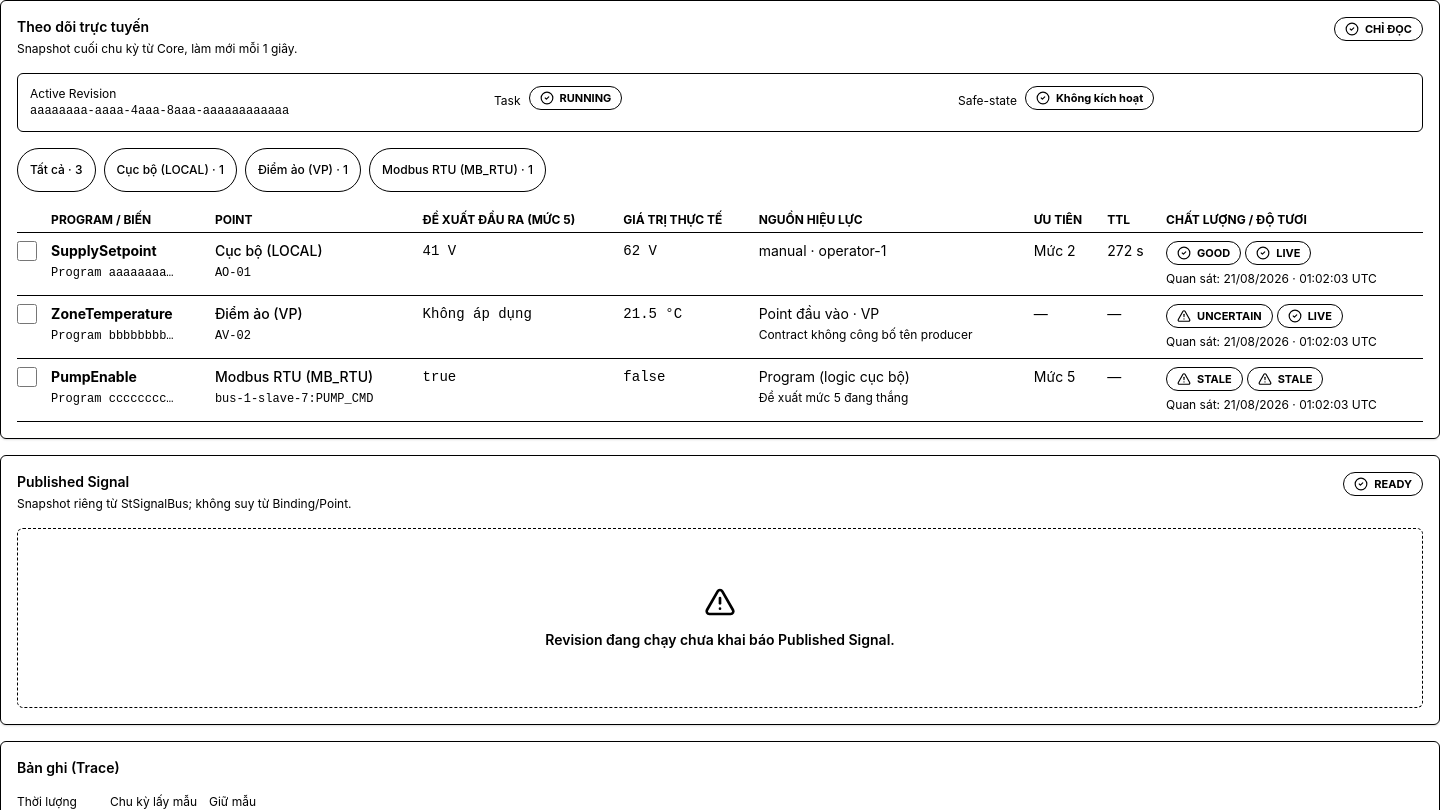
Test: WatchTab — T59-504 › hiển thị đủ LOCAL/VP/MB_RTU và tách output candidate khỏi actual/source/priority
Expected: the column heading "Đề xuất đầu ra (mức 5)" is shown, 423,208 -> 623,232
Expected: the button "Cục bộ (LOCAL) · 1" is shown, 104,148 -> 237,192
Click the button "Modbus RTU (MB_RTU) · 1" at (458, 170), box 369,148 -> 546,192
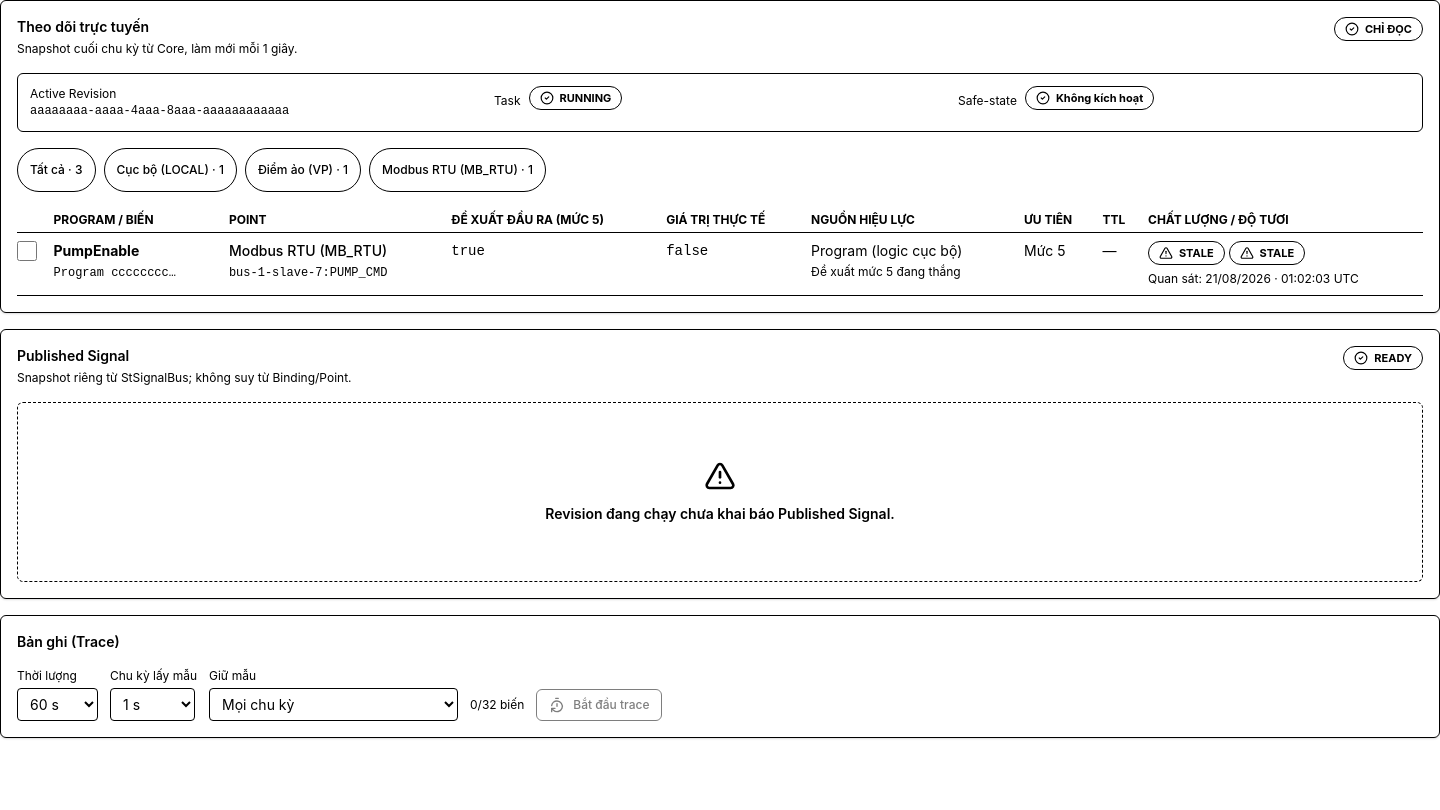
Expected: the row "PumpEnable" is shown, 17,233 -> 1423,296
Now the text "SupplySetpoint" is gone
Now the text "ZoneTemperature" is gone
